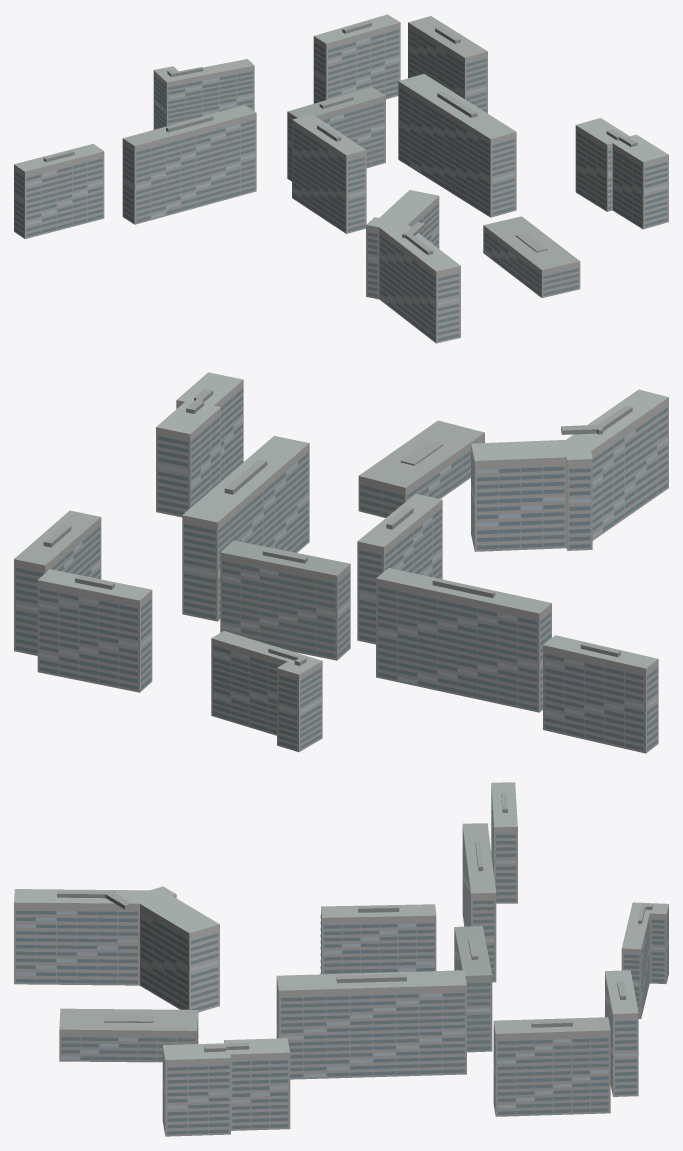
The model's file is apt-a13375901.glb.
3 views of the same model, one above another, from view 1: azimuth 30°, elevation 25°; view 2: azimuth 150°, elevation 25°; view 3: azimuth 270°, elevation 25° (orthographic). The views are drawn at different scales.
Visible parts, largest first — view 1: apt-a13375901; view 2: apt-a13375901; view 3: apt-a13375901.
Part boxes in pixels (left/top/right/bottom): apt-a13375901: left=14, top=14, right=668, bottom=343; apt-a13375901: left=14, top=372, right=668, bottom=753; apt-a13375901: left=14, top=782, right=668, bottom=1136.
Bounding box in the file's own units: 285 × 44.62 × 284.
